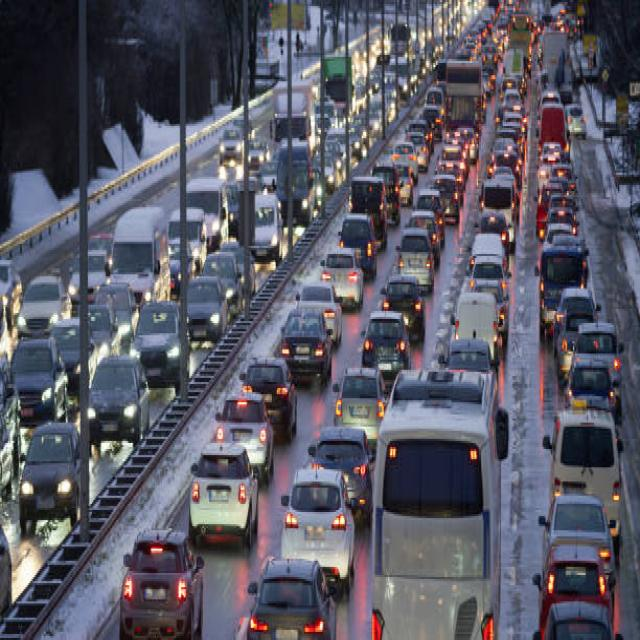Bus: (370, 366, 507, 638)
Car: (119, 528, 204, 638), (246, 555, 336, 638), (541, 488, 621, 580), (290, 462, 351, 580), (192, 441, 253, 534), (88, 344, 134, 439), (133, 298, 190, 373), (24, 413, 76, 495), (246, 350, 296, 427), (222, 392, 270, 466), (316, 240, 365, 295), (186, 274, 229, 334), (367, 310, 408, 369)
